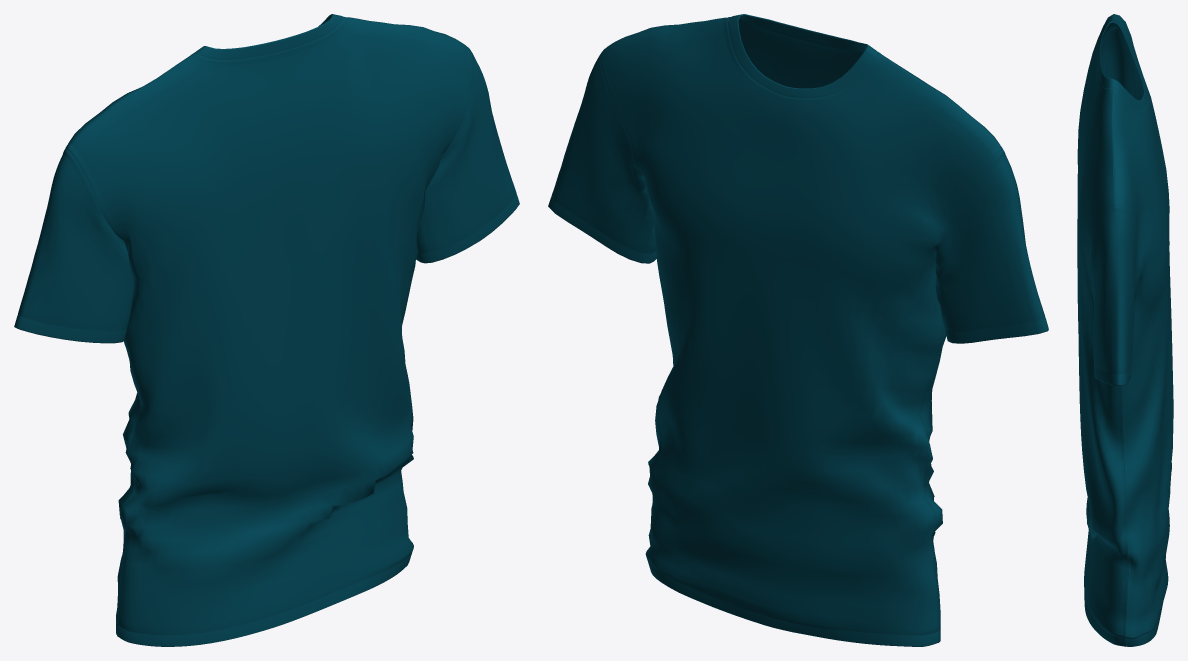
Rendered from T_Shirt_male123.fbx.
The picture shows the model from 3 angles, left to right: view 1: azimuth 30°, elevation 25°; view 2: azimuth 150°, elevation 25°; view 3: azimuth 270°, elevation 25°; orthographic projection. The views are drawn at different scales.
Parts seen in each view (by area): view 1: T_Shirt_male123; view 2: T_Shirt_male123; view 3: T_Shirt_male123.
Part boxes in pixels (x1,y1,x2,y2): T_Shirt_male123: [14, 14, 519, 646]; T_Shirt_male123: [548, 14, 1048, 646]; T_Shirt_male123: [1077, 14, 1173, 646].
Bounding box in the file's own units: 19.1 × 21.2 × 3.39.
